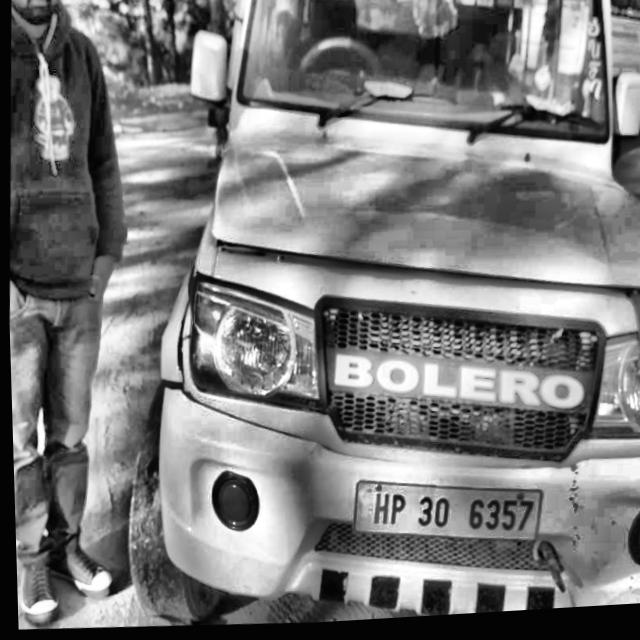light_vehicle: (130, 0, 640, 634)
